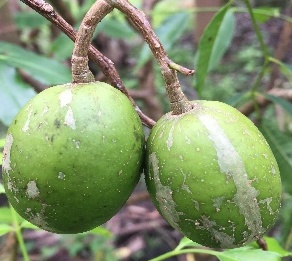Coc: (1, 62, 139, 243), (147, 74, 282, 251)
